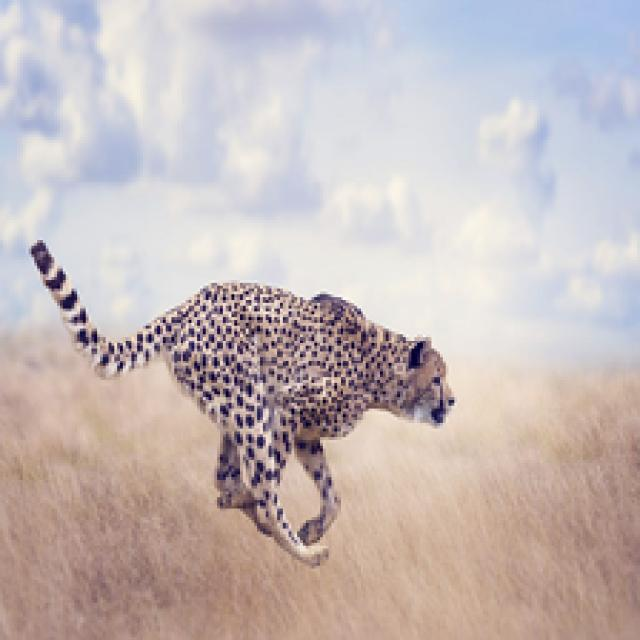cheetah: (31, 215, 466, 580)
